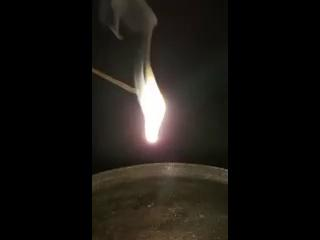Fire: (134, 49, 168, 143)
